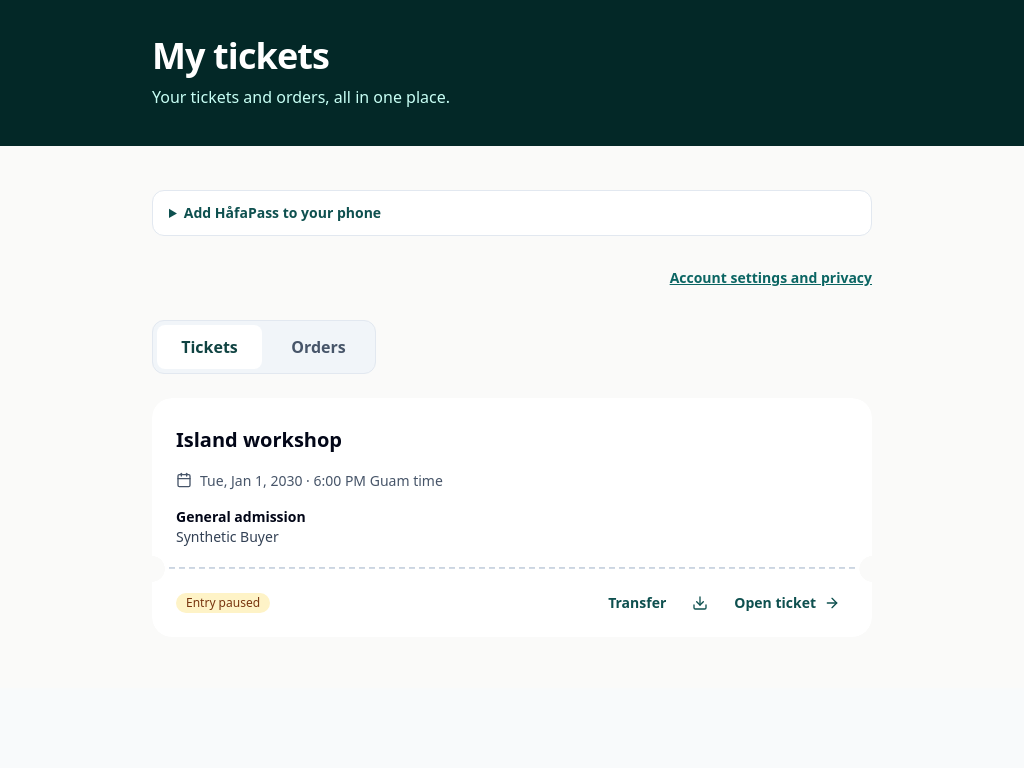
MyTicketsPage transfers › sends a transfer from a dialog and keeps the address after an error
The width and height of the screenshot is (1024, 768).
Click the button "Transfer" at (637, 603), box [600,581,674,625]
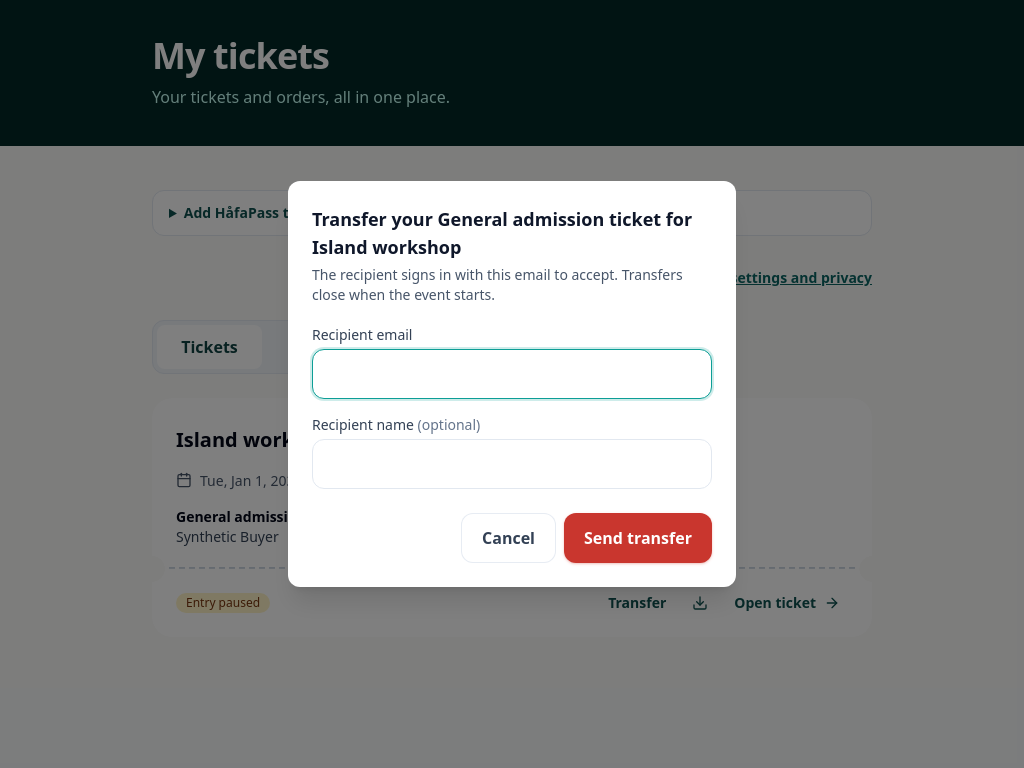
Expected: the dialog "Transfer your General admission ticket" is shown, [288,181,736,587]
Click the button "Send transfer" at (638, 538), box [564,513,712,563]
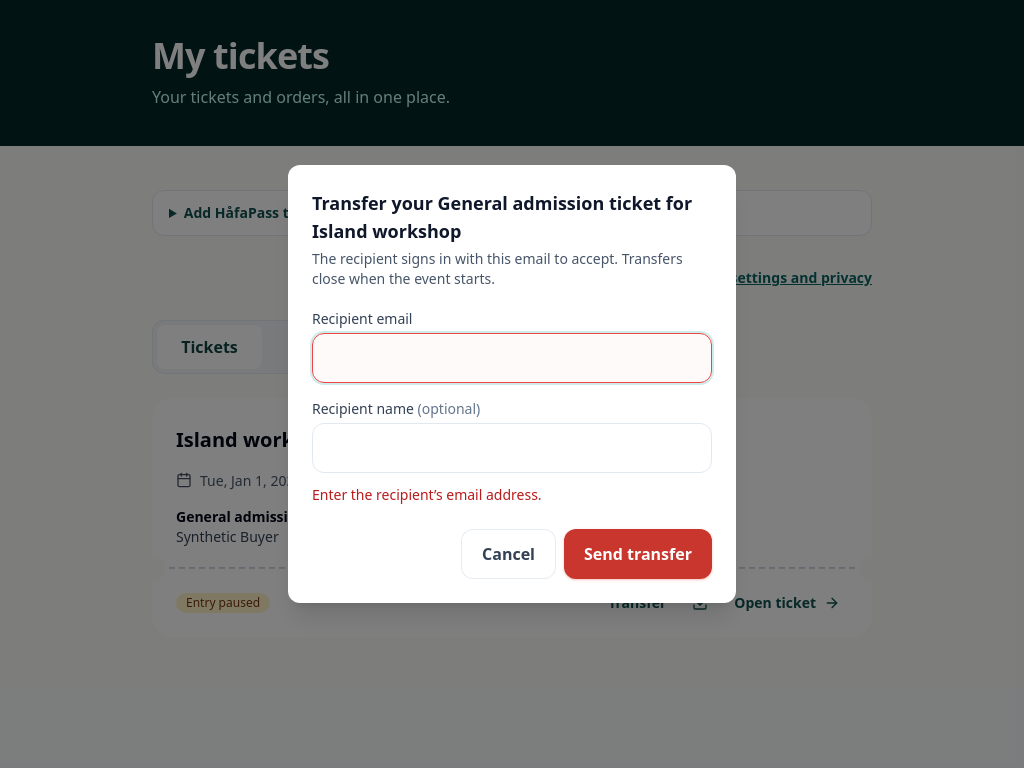
Expected: the message reads "Enter the recipient’s email address.", [312,485,542,504]
Type "friend@example.com" into the field labelled "Recipient email" at (512, 358), box [312,333,712,383]
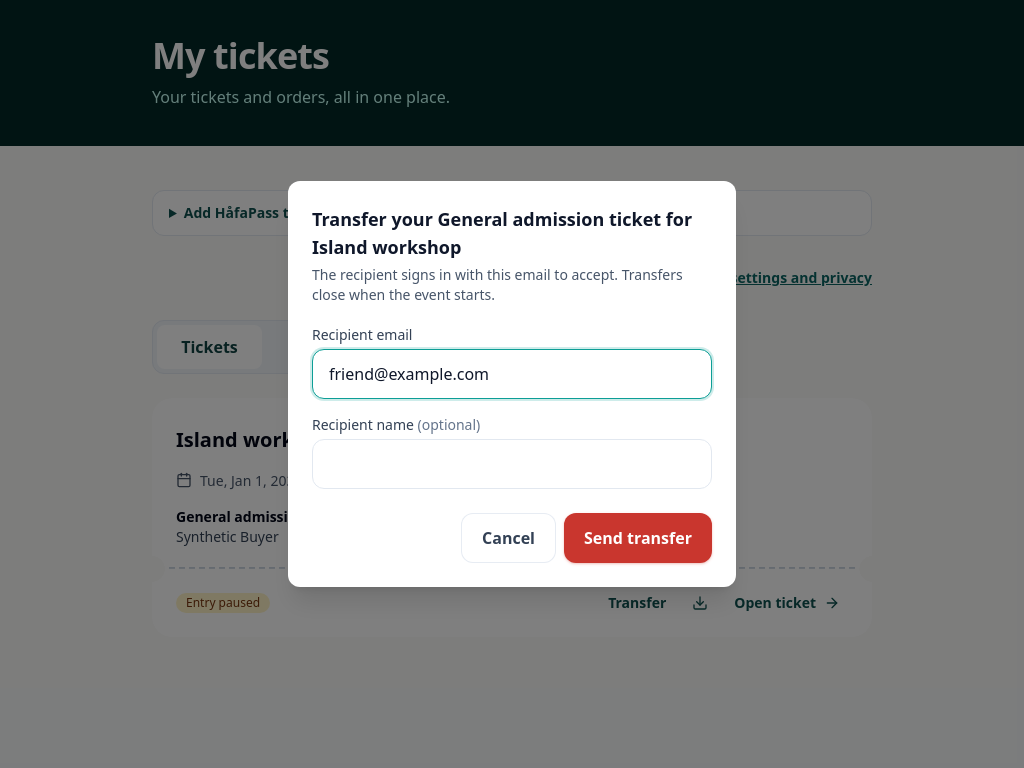
Click the button "Send transfer" at (638, 538), box [564,513,712,563]
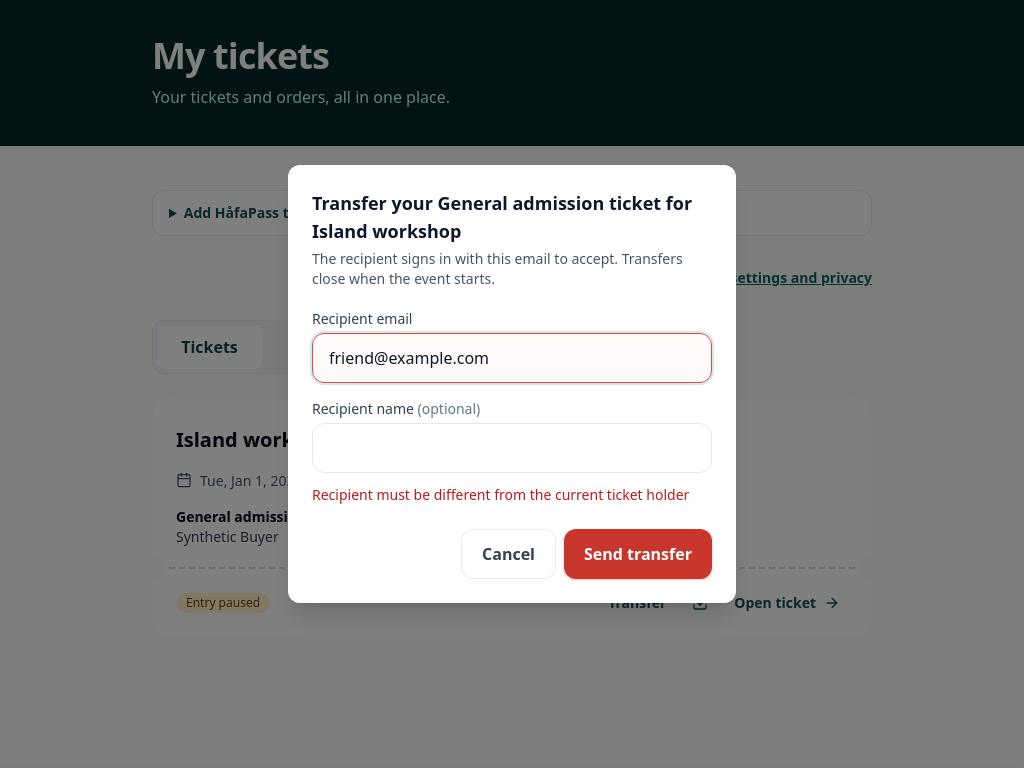
Expected: the message shows "Recipient must be different", [312,485,689,504]
Click the button "Send transfer" at (638, 554), box [564,529,712,579]
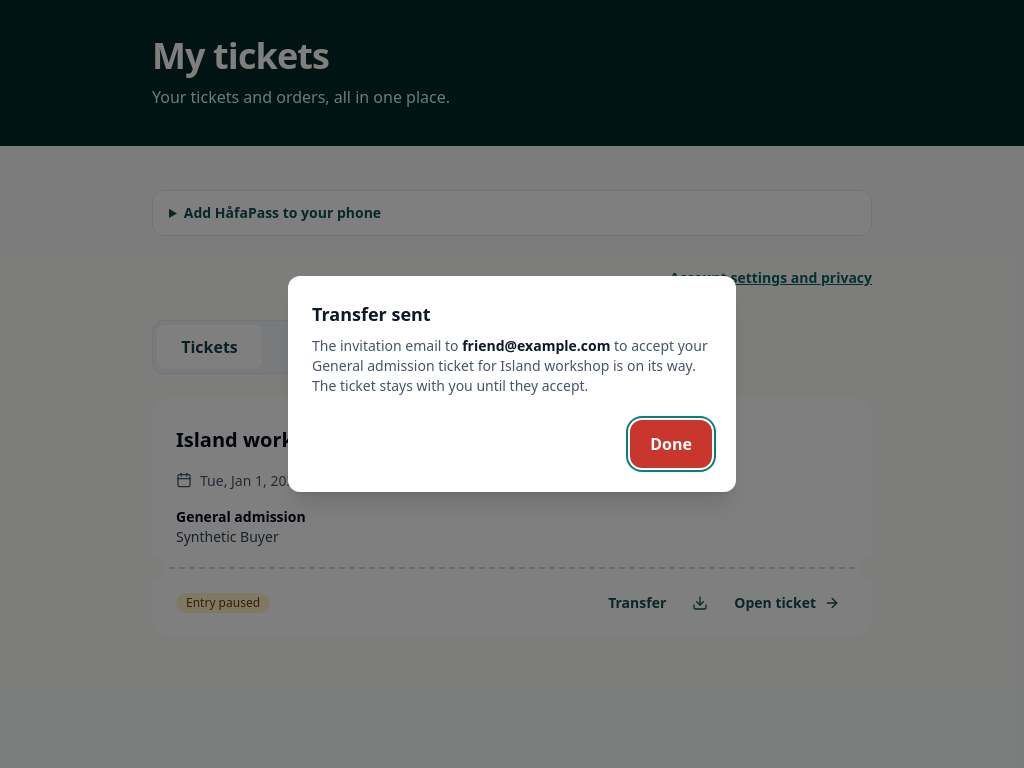
Expected: the dialog "Transfer sent" shows "friend@example.com", [462,336,610,355]
Click the button "Done" at (671, 444), box [630,420,712,468]
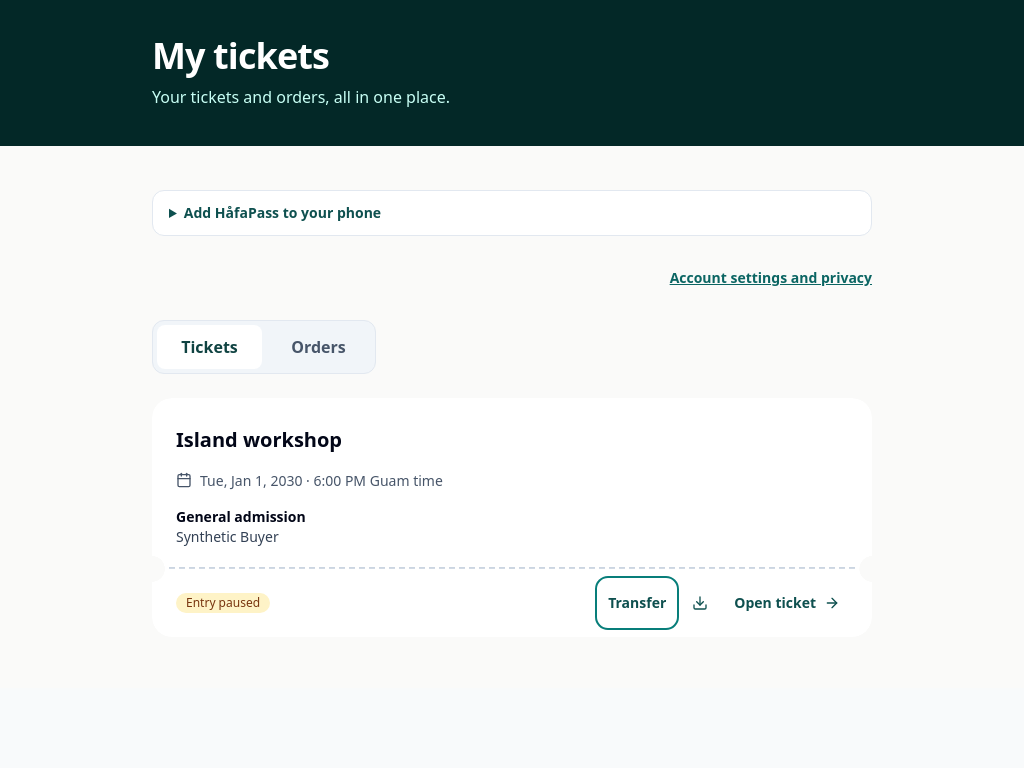
Expected: the dialog is gone
